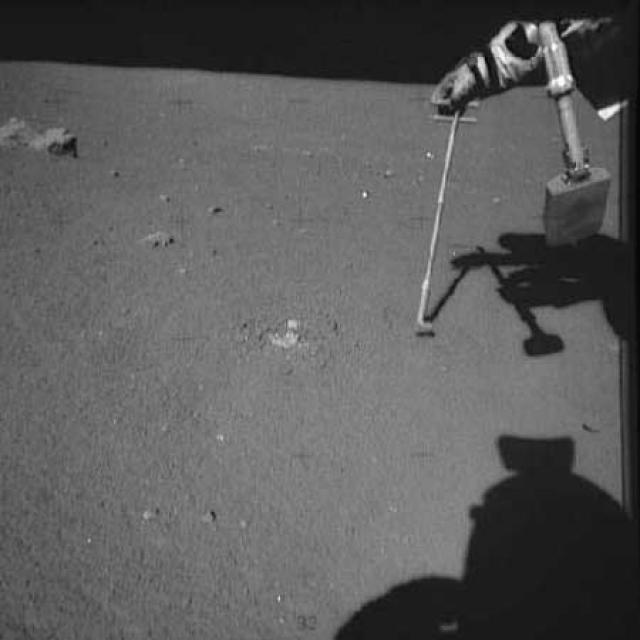rock: (0, 111, 87, 166), (262, 318, 318, 359), (138, 230, 182, 248), (199, 500, 222, 526), (198, 200, 233, 217), (154, 188, 183, 208), (102, 167, 132, 186)
